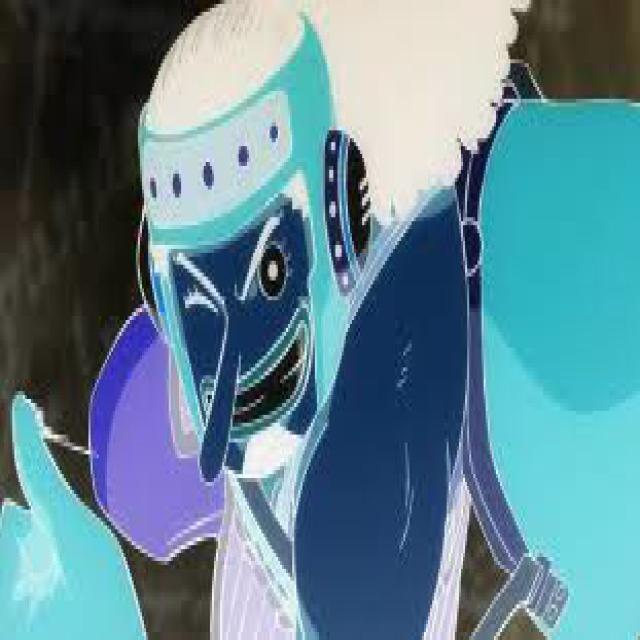Usopp: (86, 0, 640, 640)
